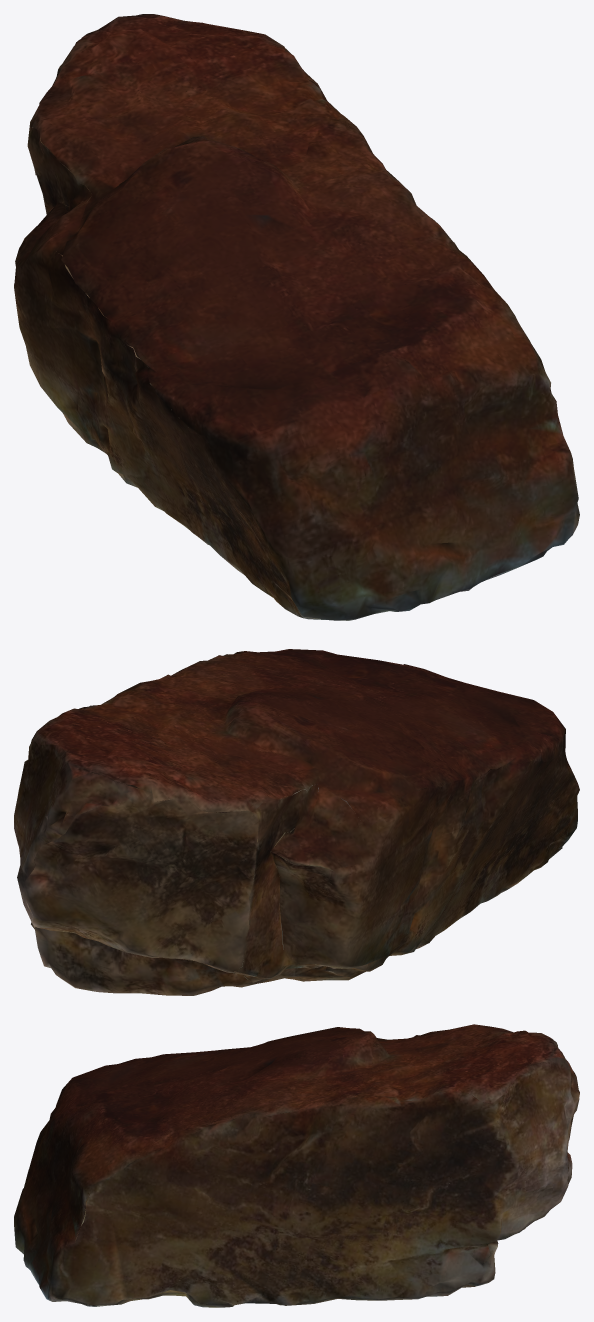
File: kaya_sivri.gltf
The picture shows the model from 3 angles, top to bottom: view 1: azimuth 30°, elevation 25°; view 2: azimuth 150°, elevation 25°; view 3: azimuth 270°, elevation 25°; orthographic projection. The views are drawn at different scales.
Parts seen in each view (by area): view 1: kaya_sivri; view 2: kaya_sivri; view 3: kaya_sivri.
Part boxes in pixels (bbox=[...]): kaya_sivri: bbox=[14, 14, 579, 620]; kaya_sivri: bbox=[14, 649, 579, 995]; kaya_sivri: bbox=[14, 1024, 579, 1307].
Size of what is drawn, in the model's own units: 0.8429 by 0.7175 by 1.6.
1 material, 1 textured.
